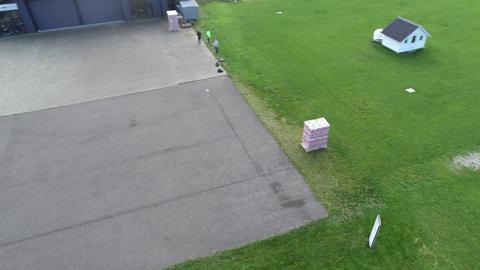RockwoolPallet: (166, 9, 180, 32)
